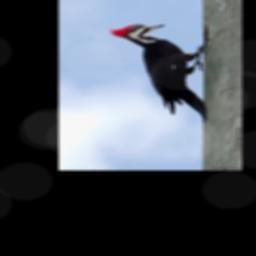Woodpecker: (109, 24, 211, 123)
